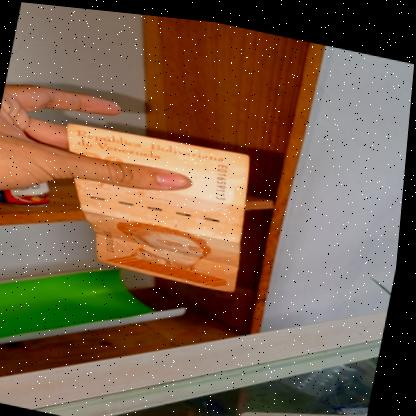twenty-front-vef: (43, 113, 263, 289)
